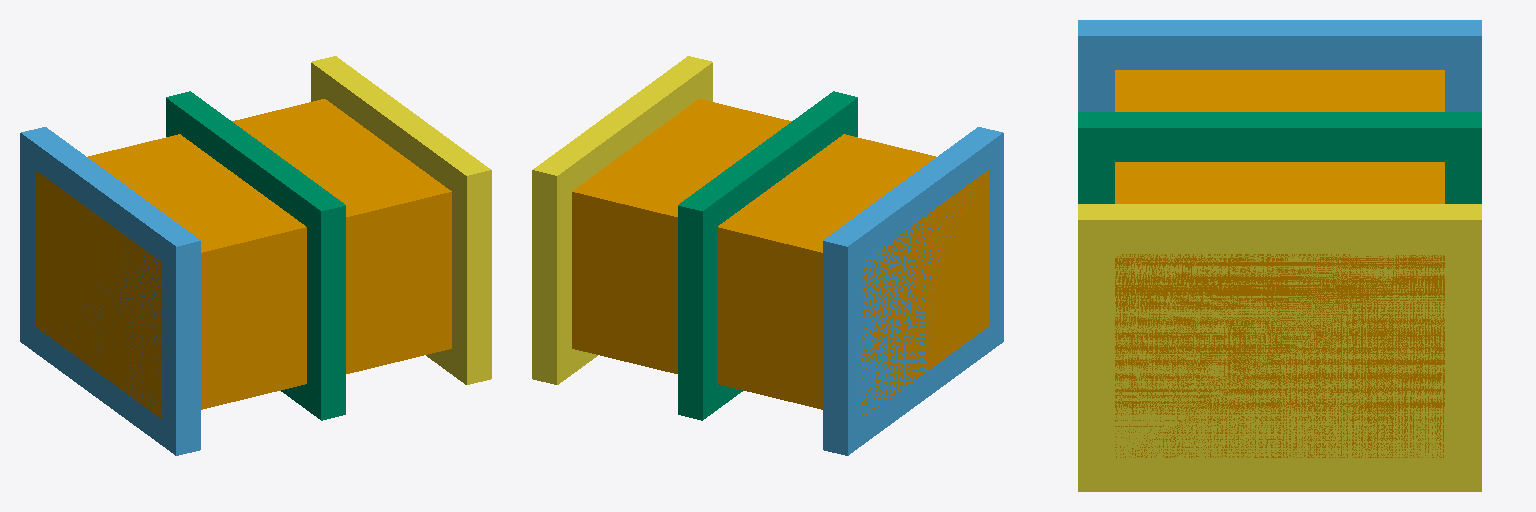
URDF robot description (debris039):
<?xml version="1.0" ?>
<robot name="debris039">

<link name="debris039">
<visual> <origin xyz="0 0 0" rpy="0 0 0" />
<geometry> <box size="0.63 0.44 0.30"/> </geometry>
</visual>
<collision> <origin xyz="0 0 0" rpy="0 0 0" />
<geometry> <box size="0.63 0.44 0.30"/> </geometry>
</collision>
<inertial> <origin xyz="0 0 0" rpy="0 0 0" />
<mass value="10.0" />
<inertia ixx="0.3476" ixy="0" ixz="0" iyy="0.3476" iyz="0" izz="0.3476" />
</inertial>
</link>
<gazebo reference="debris039"> <material>Gazebo/WoodFloor</material> </gazebo>

<link name="debris0390">
<visual> <origin xyz="-0.29 0 0" rpy="0 0 0" />
<geometry> <box size="0.05 0.54 0.40"/> </geometry>
</visual>
<collision> <origin xyz="-0.29 0 0" rpy="0 0 0" />
<geometry> <box size="0.05 0.54 0.40"/> </geometry>
</collision>
<inertial> <origin xyz="0 0 0" rpy="0 0 0" />
<mass value="0.1" />
<inertia ixx="0.0100" ixy="0" ixz="0" iyy="0.0100" iyz="0" izz="0.0100" />
</inertial>
</link>
<gazebo reference="debris0390"> <material>Gazebo/WoodFloor</material> </gazebo>

<joint name="debris0390joint" type="fixed">
<parent link="debris039"/>
<child link="debris0390"/>
<origin xyz="0 0 0" rpy="0 0 0" />
</joint>

<link name="debris0391">
<visual> <origin xyz="0.00 0 0" rpy="0 0 0" />
<geometry> <box size="0.05 0.54 0.40"/> </geometry>
</visual>
<collision> <origin xyz="0.00 0 0" rpy="0 0 0" />
<geometry> <box size="0.05 0.54 0.40"/> </geometry>
</collision>
<inertial> <origin xyz="0 0 0" rpy="0 0 0" />
<mass value="0.1" />
<inertia ixx="0.0100" ixy="0" ixz="0" iyy="0.0100" iyz="0" izz="0.0100" />
</inertial>
</link>
<gazebo reference="debris0391"> <material>Gazebo/WoodFloor</material> </gazebo>

<joint name="debris0391joint" type="fixed">
<parent link="debris039"/>
<child link="debris0391"/>
<origin xyz="0 0 0" rpy="0 0 0" />
</joint>

<link name="debris0392">
<visual> <origin xyz="0.29 0 0" rpy="0 0 0" />
<geometry> <box size="0.05 0.54 0.40"/> </geometry>
</visual>
<collision> <origin xyz="0.29 0 0" rpy="0 0 0" />
<geometry> <box size="0.05 0.54 0.40"/> </geometry>
</collision>
<inertial> <origin xyz="0 0 0" rpy="0 0 0" />
<mass value="0.1" />
<inertia ixx="0.0100" ixy="0" ixz="0" iyy="0.0100" iyz="0" izz="0.0100" />
</inertial>
</link>
<gazebo reference="debris0392"> <material>Gazebo/WoodFloor</material> </gazebo>

<joint name="debris0392joint" type="fixed">
<parent link="debris039"/>
<child link="debris0392"/>
<origin xyz="0 0 0" rpy="0 0 0" />
</joint>

</robot>

--- What the picture shows (computed from the rendered views, not written in the file) ---
The picture shows the robot from 3 angles, left to right: view 1: azimuth 30°, elevation 25°; view 2: azimuth 150°, elevation 25°; view 3: azimuth 270°, elevation 25°; orthographic projection.
Robot: debris039 — 4 links, 3 joints (3 fixed); root link debris039; default pose: every joint at zero.
Visible links, largest first — view 1: debris039, debris0390, debris0392, debris0391; view 2: debris039, debris0390, debris0392, debris0391; view 3: debris0392, debris039, debris0390, debris0391.
Link boxes in pixels (box(x1,y1,x2,y2)): debris039: box(35, 99, 451, 418); debris0390: box(20, 127, 200, 455); debris0392: box(311, 56, 491, 384); debris0391: box(166, 91, 345, 420); debris039: box(572, 99, 988, 414); debris0390: box(823, 127, 1003, 455); debris0392: box(532, 56, 712, 384); debris0391: box(678, 91, 857, 420); debris0392: box(1078, 204, 1481, 491); debris039: box(1115, 70, 1444, 457); debris0390: box(1078, 20, 1481, 111); debris0391: box(1078, 112, 1481, 203).
Size in the robot's own frame: 0.63 by 0.54 by 0.4 metres.
Geometry: primitives only (box / cylinder / sphere), no mesh files.
